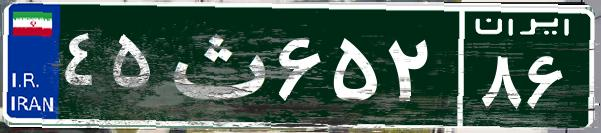2: (385, 28, 445, 110)
4: (57, 26, 110, 107)
5: (330, 28, 385, 110), (110, 28, 158, 105)
6: (273, 28, 330, 110), (525, 38, 570, 115)
8: (475, 38, 525, 113)
ث: (158, 15, 273, 115)
